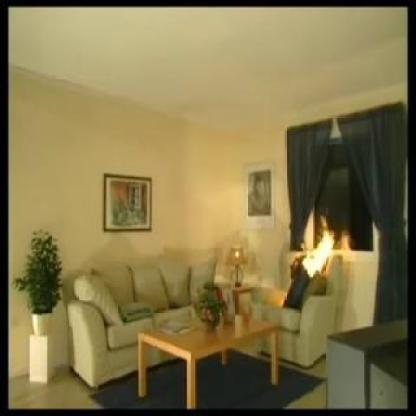Fire: (302, 218, 340, 277)
